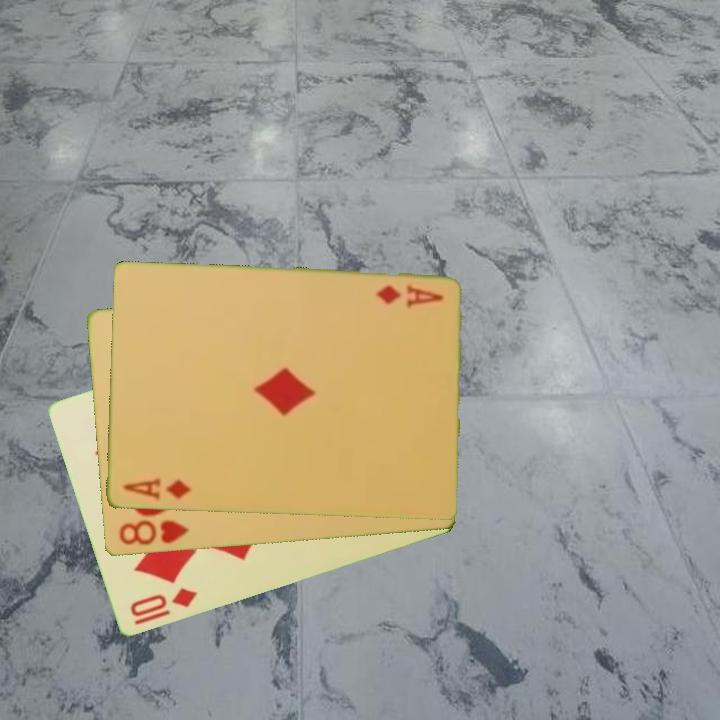10d: (126, 584, 201, 628)
8h: (115, 517, 192, 549)
Ad: (120, 475, 194, 503), (373, 282, 446, 310)
